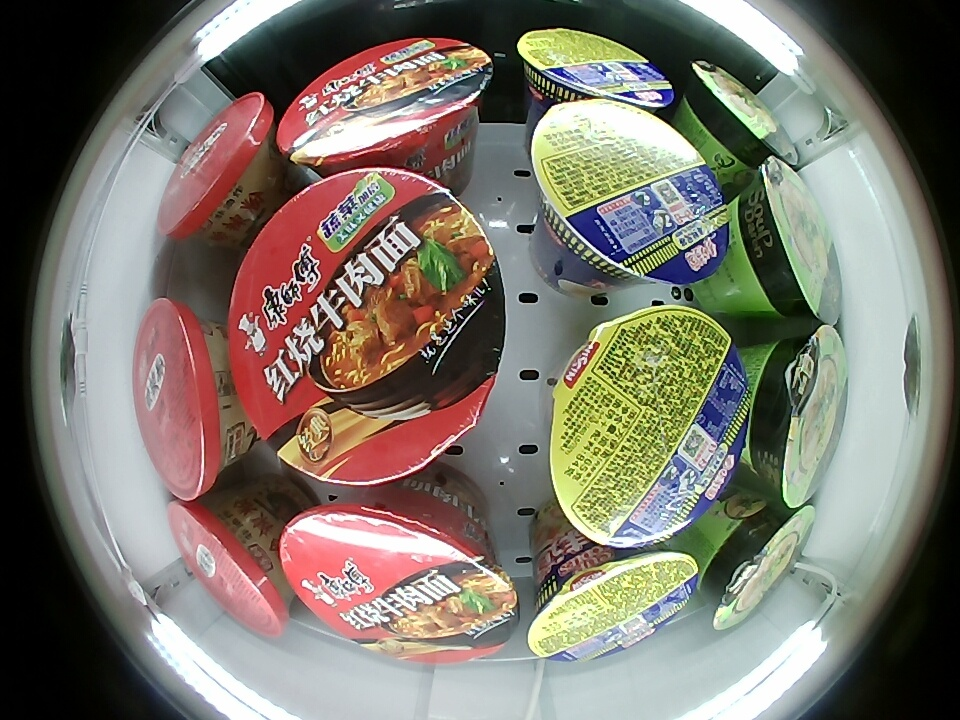heweidao: (550, 304, 749, 549), (532, 97, 729, 285), (530, 540, 701, 662), (519, 28, 677, 114)
hongshaoniurou: (228, 167, 508, 486), (280, 500, 521, 665), (277, 35, 494, 172)
suanlafen: (134, 296, 239, 500), (169, 493, 291, 640), (161, 92, 277, 243)
tangdaren: (746, 329, 850, 507), (737, 156, 844, 326), (697, 503, 818, 631), (680, 62, 798, 175)
